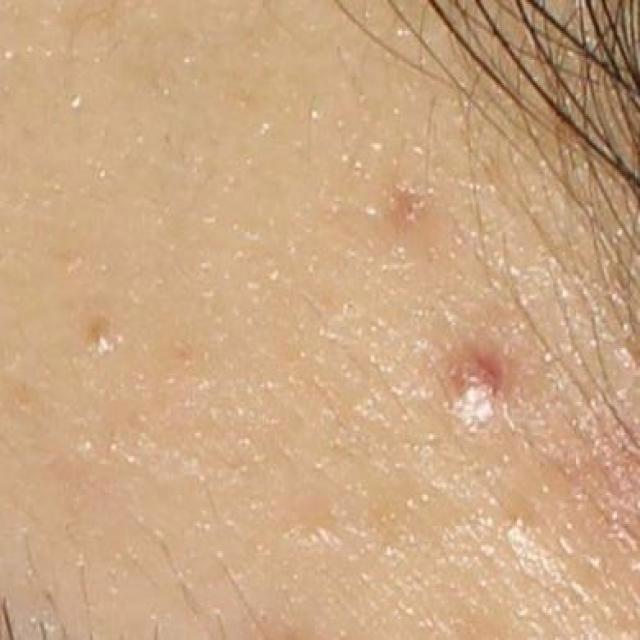Pimples: (446, 338, 516, 430), (73, 304, 125, 368)
